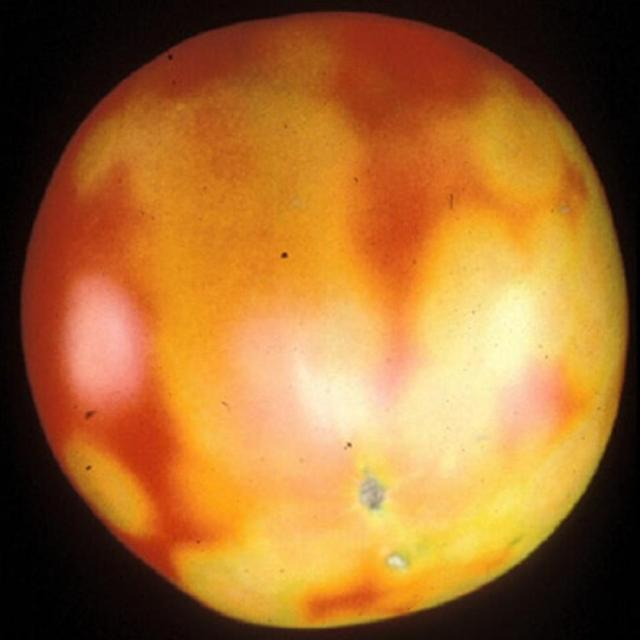Spotted wilt Virus Fruit: (70, 7, 154, 57)
